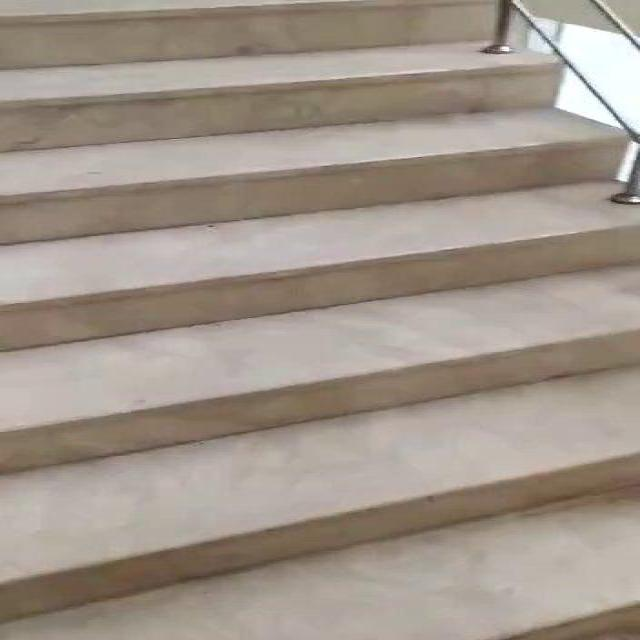Stairs: (12, 23, 616, 621)
